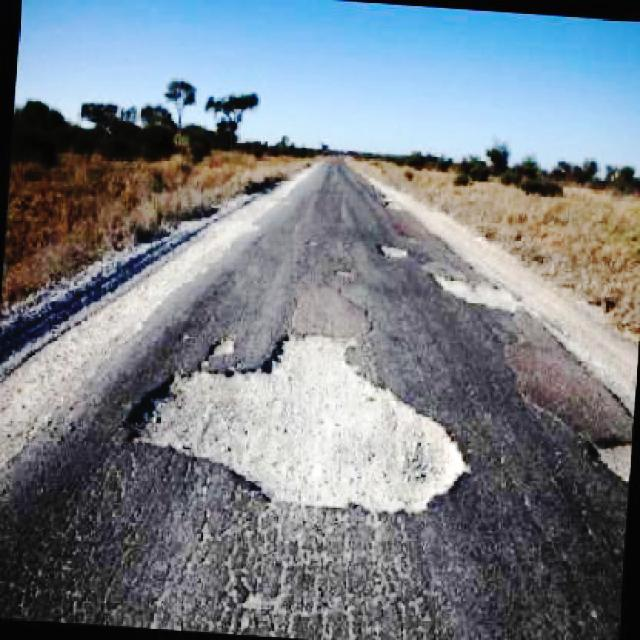pothole: (119, 331, 472, 514), (503, 340, 640, 480), (284, 283, 370, 340), (429, 270, 523, 316), (377, 243, 415, 260)
